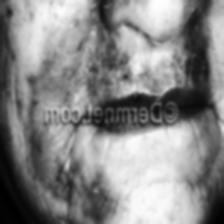Potentially Malignant Skin Tumors: (24, 0, 224, 104), (72, 156, 129, 224), (22, 128, 70, 180)
